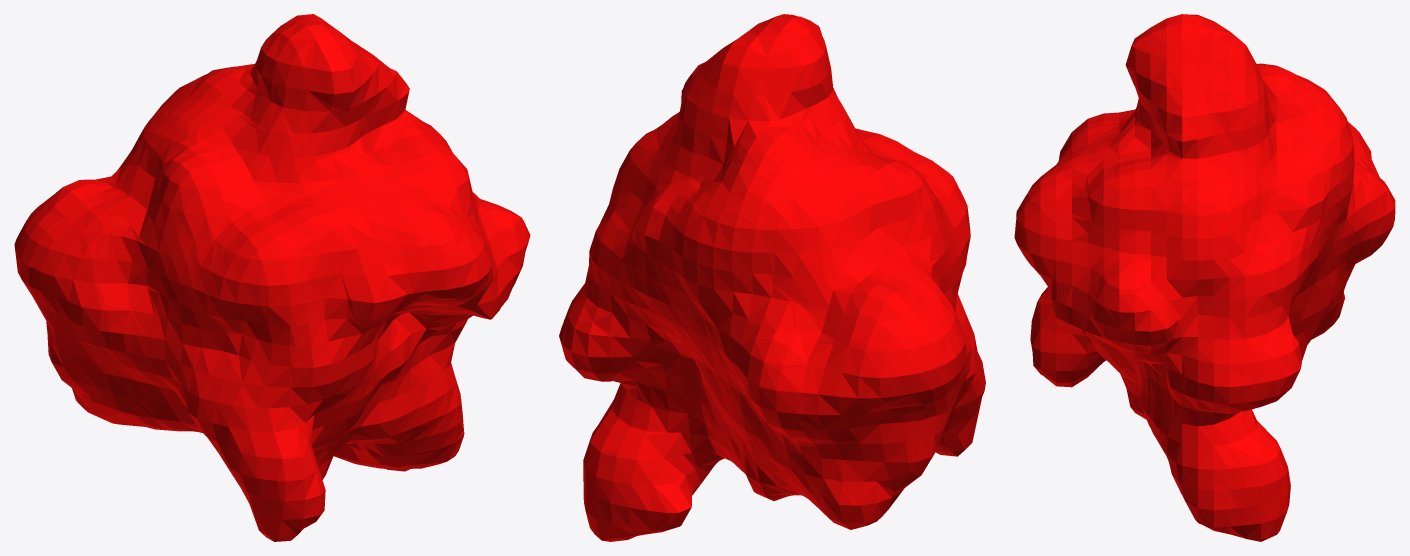
File: fadI_coarse.dae
3 renders of one model, left to right at view 1: azimuth 30°, elevation 25°; view 2: azimuth 150°, elevation 25°; view 3: azimuth 270°, elevation 25°, orthographic. The views are drawn at different scales.
Parts seen in each view (by area): view 1: fadI; view 2: fadI; view 3: fadI.
Boxes of the visible parts, x1,y1,x2,y2 form: fadI: (14,14,530,541); fadI: (559,14,985,541); fadI: (1014,14,1395,541).
Size of the model in its own units: 63.17 by 74.73 by 55.15.
